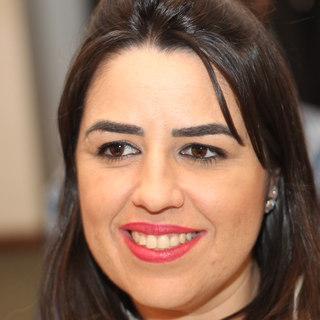eye: (175, 136, 229, 166), (92, 138, 148, 164)
